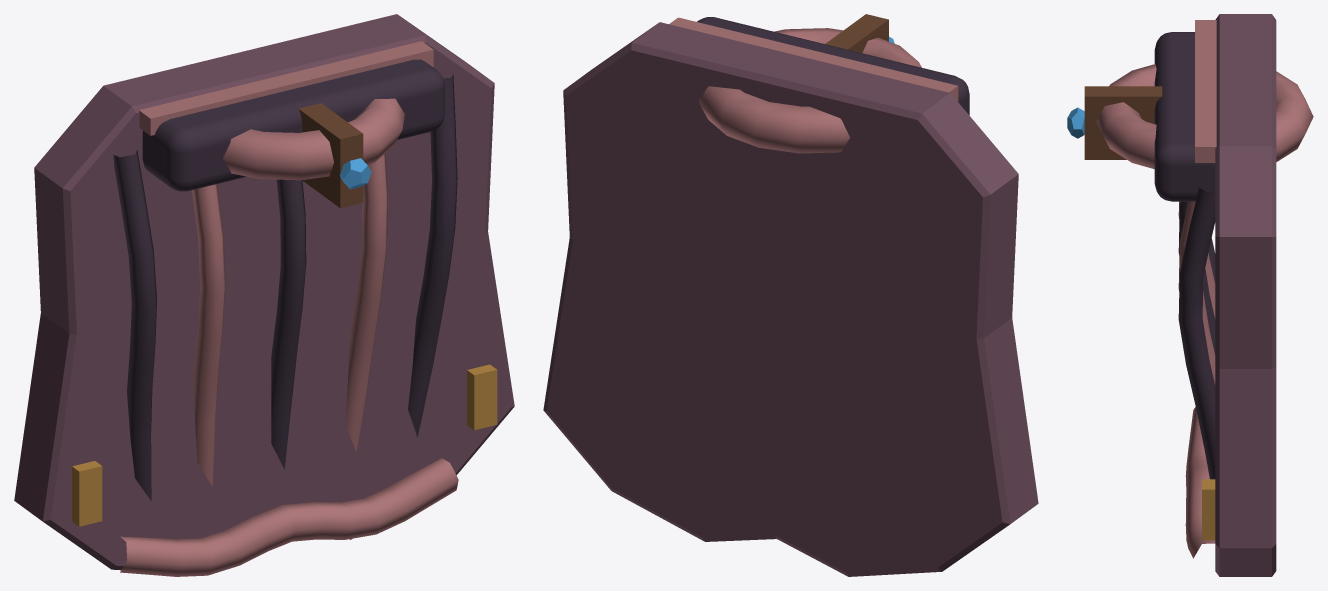
File: cloak.glb
3 views of the same model, side by side, from view 1: azimuth 30°, elevation 25°; view 2: azimuth 150°, elevation 25°; view 3: azimuth 270°, elevation 25° (orthographic). The views are drawn at different scales.
Visible parts, largest first — view 1: cloak-contoured-body, cloak-shoulder-collar, cloak-hem, cloak-soft-fold-1, cloak-soft-fold-5, cloak-neck-roll, cloak-soft-fold-2, cloak-soft-fold-3, cloak-soft-fold-4, cloak-shoulder-seam, cloak-side-weight (×2), cloak-clasp-strap (+1 smaller); view 2: cloak-contoured-body, cloak-neck-roll, cloak-shoulder-collar, cloak-shoulder-seam, cloak-clasp-strap; view 3: cloak-contoured-body, cloak-shoulder-collar, cloak-soft-fold-5, cloak-neck-roll, cloak-shoulder-seam, cloak-clasp-strap, cloak-hem, cloak-soft-fold-4, cloak-side-weight, cloak-soft-fold-3, cloak-clasp-gem, cloak-soft-fold-2.
Part boxes in pixels (x1=…): cloak-contoured-body: x1=14, y1=14, x2=514, y2=570; cloak-shoulder-collar: x1=142, y1=59, x2=444, y2=191; cloak-hem: x1=120, y1=458, x2=458, y2=576; cloak-soft-fold-1: x1=113, y1=149, x2=157, y2=501; cloak-soft-fold-5: x1=408, y1=74, x2=457, y2=437; cloak-neck-roll: x1=223, y1=98, x2=404, y2=180; cloak-soft-fold-2: x1=192, y1=184, x2=225, y2=486; cloak-soft-fold-3: x1=271, y1=179, x2=306, y2=469; cloak-soft-fold-4: x1=345, y1=154, x2=387, y2=451; cloak-shoulder-seam: x1=139, y1=41, x2=433, y2=135; cloak-side-weight (×2): x1=72, y1=364, x2=497, y2=526; cloak-clasp-strap: x1=298, y1=103, x2=363, y2=208; cloak-contoured-body: x1=543, y1=22, x2=1038, y2=576; cloak-neck-roll: x1=699, y1=28, x2=921, y2=153; cloak-shoulder-collar: x1=697, y1=17, x2=969, y2=115; cloak-shoulder-seam: x1=669, y1=17, x2=958, y2=101; cloak-clasp-strap: x1=825, y1=14, x2=888, y2=52; cloak-contoured-body: x1=1215, y1=14, x2=1276, y2=576; cloak-shoulder-collar: x1=1154, y1=32, x2=1215, y2=201; cloak-soft-fold-5: x1=1178, y1=188, x2=1215, y2=479; cloak-neck-roll: x1=1096, y1=64, x2=1313, y2=169; cloak-shoulder-seam: x1=1195, y1=20, x2=1216, y2=162; cloak-clasp-strap: x1=1084, y1=86, x2=1162, y2=159; cloak-hem: x1=1185, y1=407, x2=1215, y2=558; cloak-soft-fold-4: x1=1178, y1=201, x2=1215, y2=384; cloak-side-weight: x1=1202, y1=479, x2=1215, y2=540; cloak-soft-fold-3: x1=1178, y1=201, x2=1215, y2=354; cloak-clasp-gem: x1=1067, y1=107, x2=1084, y2=138; cloak-soft-fold-2: x1=1178, y1=201, x2=1215, y2=318.
Bounding box in the file's own units: 0.7171 × 0.7063 × 0.3519.
